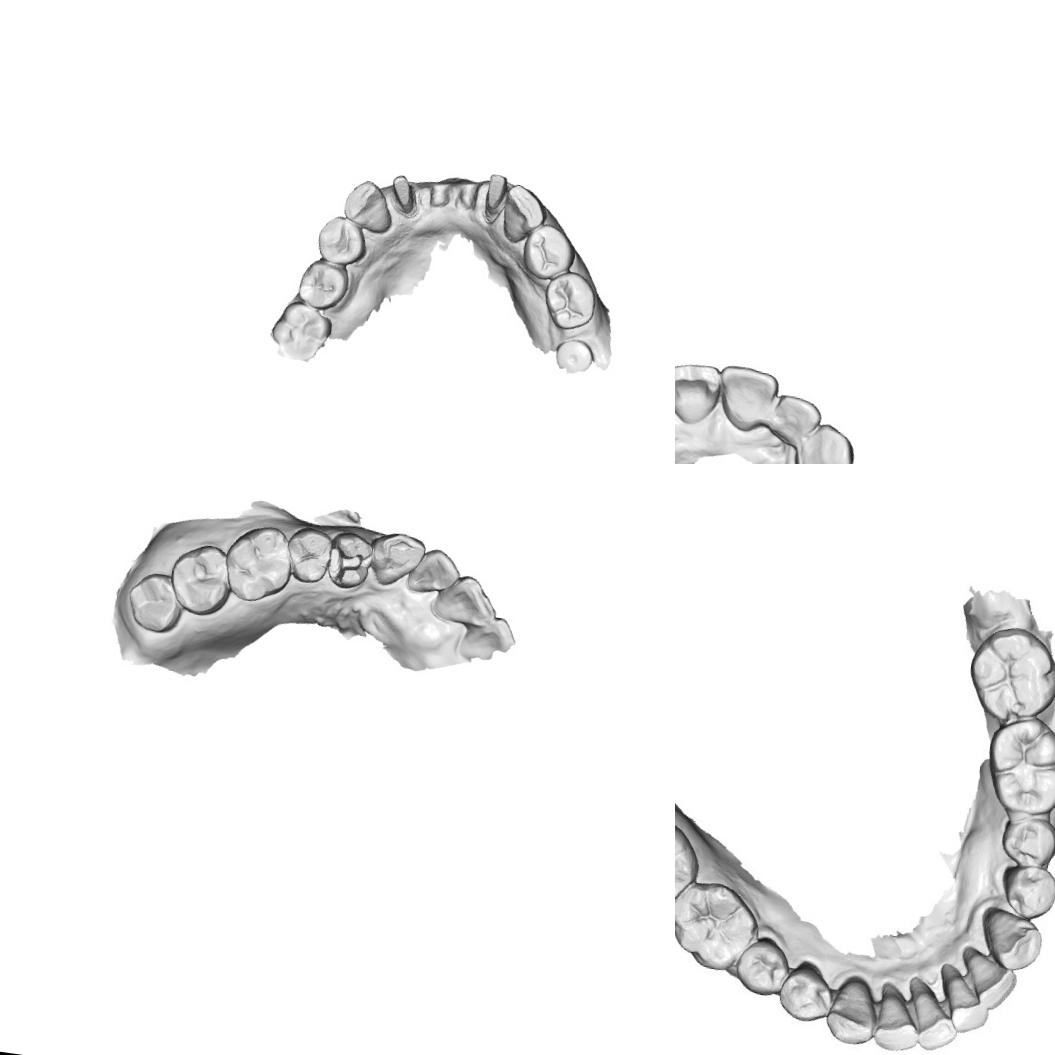canine: (819, 974, 880, 1048), (977, 903, 1042, 968), (496, 180, 553, 251), (367, 526, 428, 592), (338, 175, 398, 237), (790, 417, 861, 464)
crown: (384, 170, 421, 216), (480, 168, 514, 218)
implant: (551, 335, 596, 377)
incisor: (712, 360, 782, 436), (428, 570, 504, 630), (956, 947, 1021, 1009), (870, 981, 924, 1051), (906, 977, 958, 1049), (675, 357, 725, 429), (404, 543, 465, 601), (766, 391, 826, 449), (940, 966, 993, 1028)
inlay: (325, 538, 370, 591)
molar: (675, 872, 757, 978), (968, 623, 1055, 722), (979, 715, 1055, 821), (218, 520, 300, 608), (164, 538, 238, 620), (266, 299, 336, 364), (122, 566, 187, 636), (675, 810, 699, 909)
premolar: (517, 220, 581, 287), (538, 267, 600, 336), (734, 932, 794, 1002), (776, 958, 834, 1026), (280, 522, 336, 588), (996, 858, 1055, 920), (312, 213, 372, 269), (294, 257, 352, 314), (1001, 812, 1055, 868)
